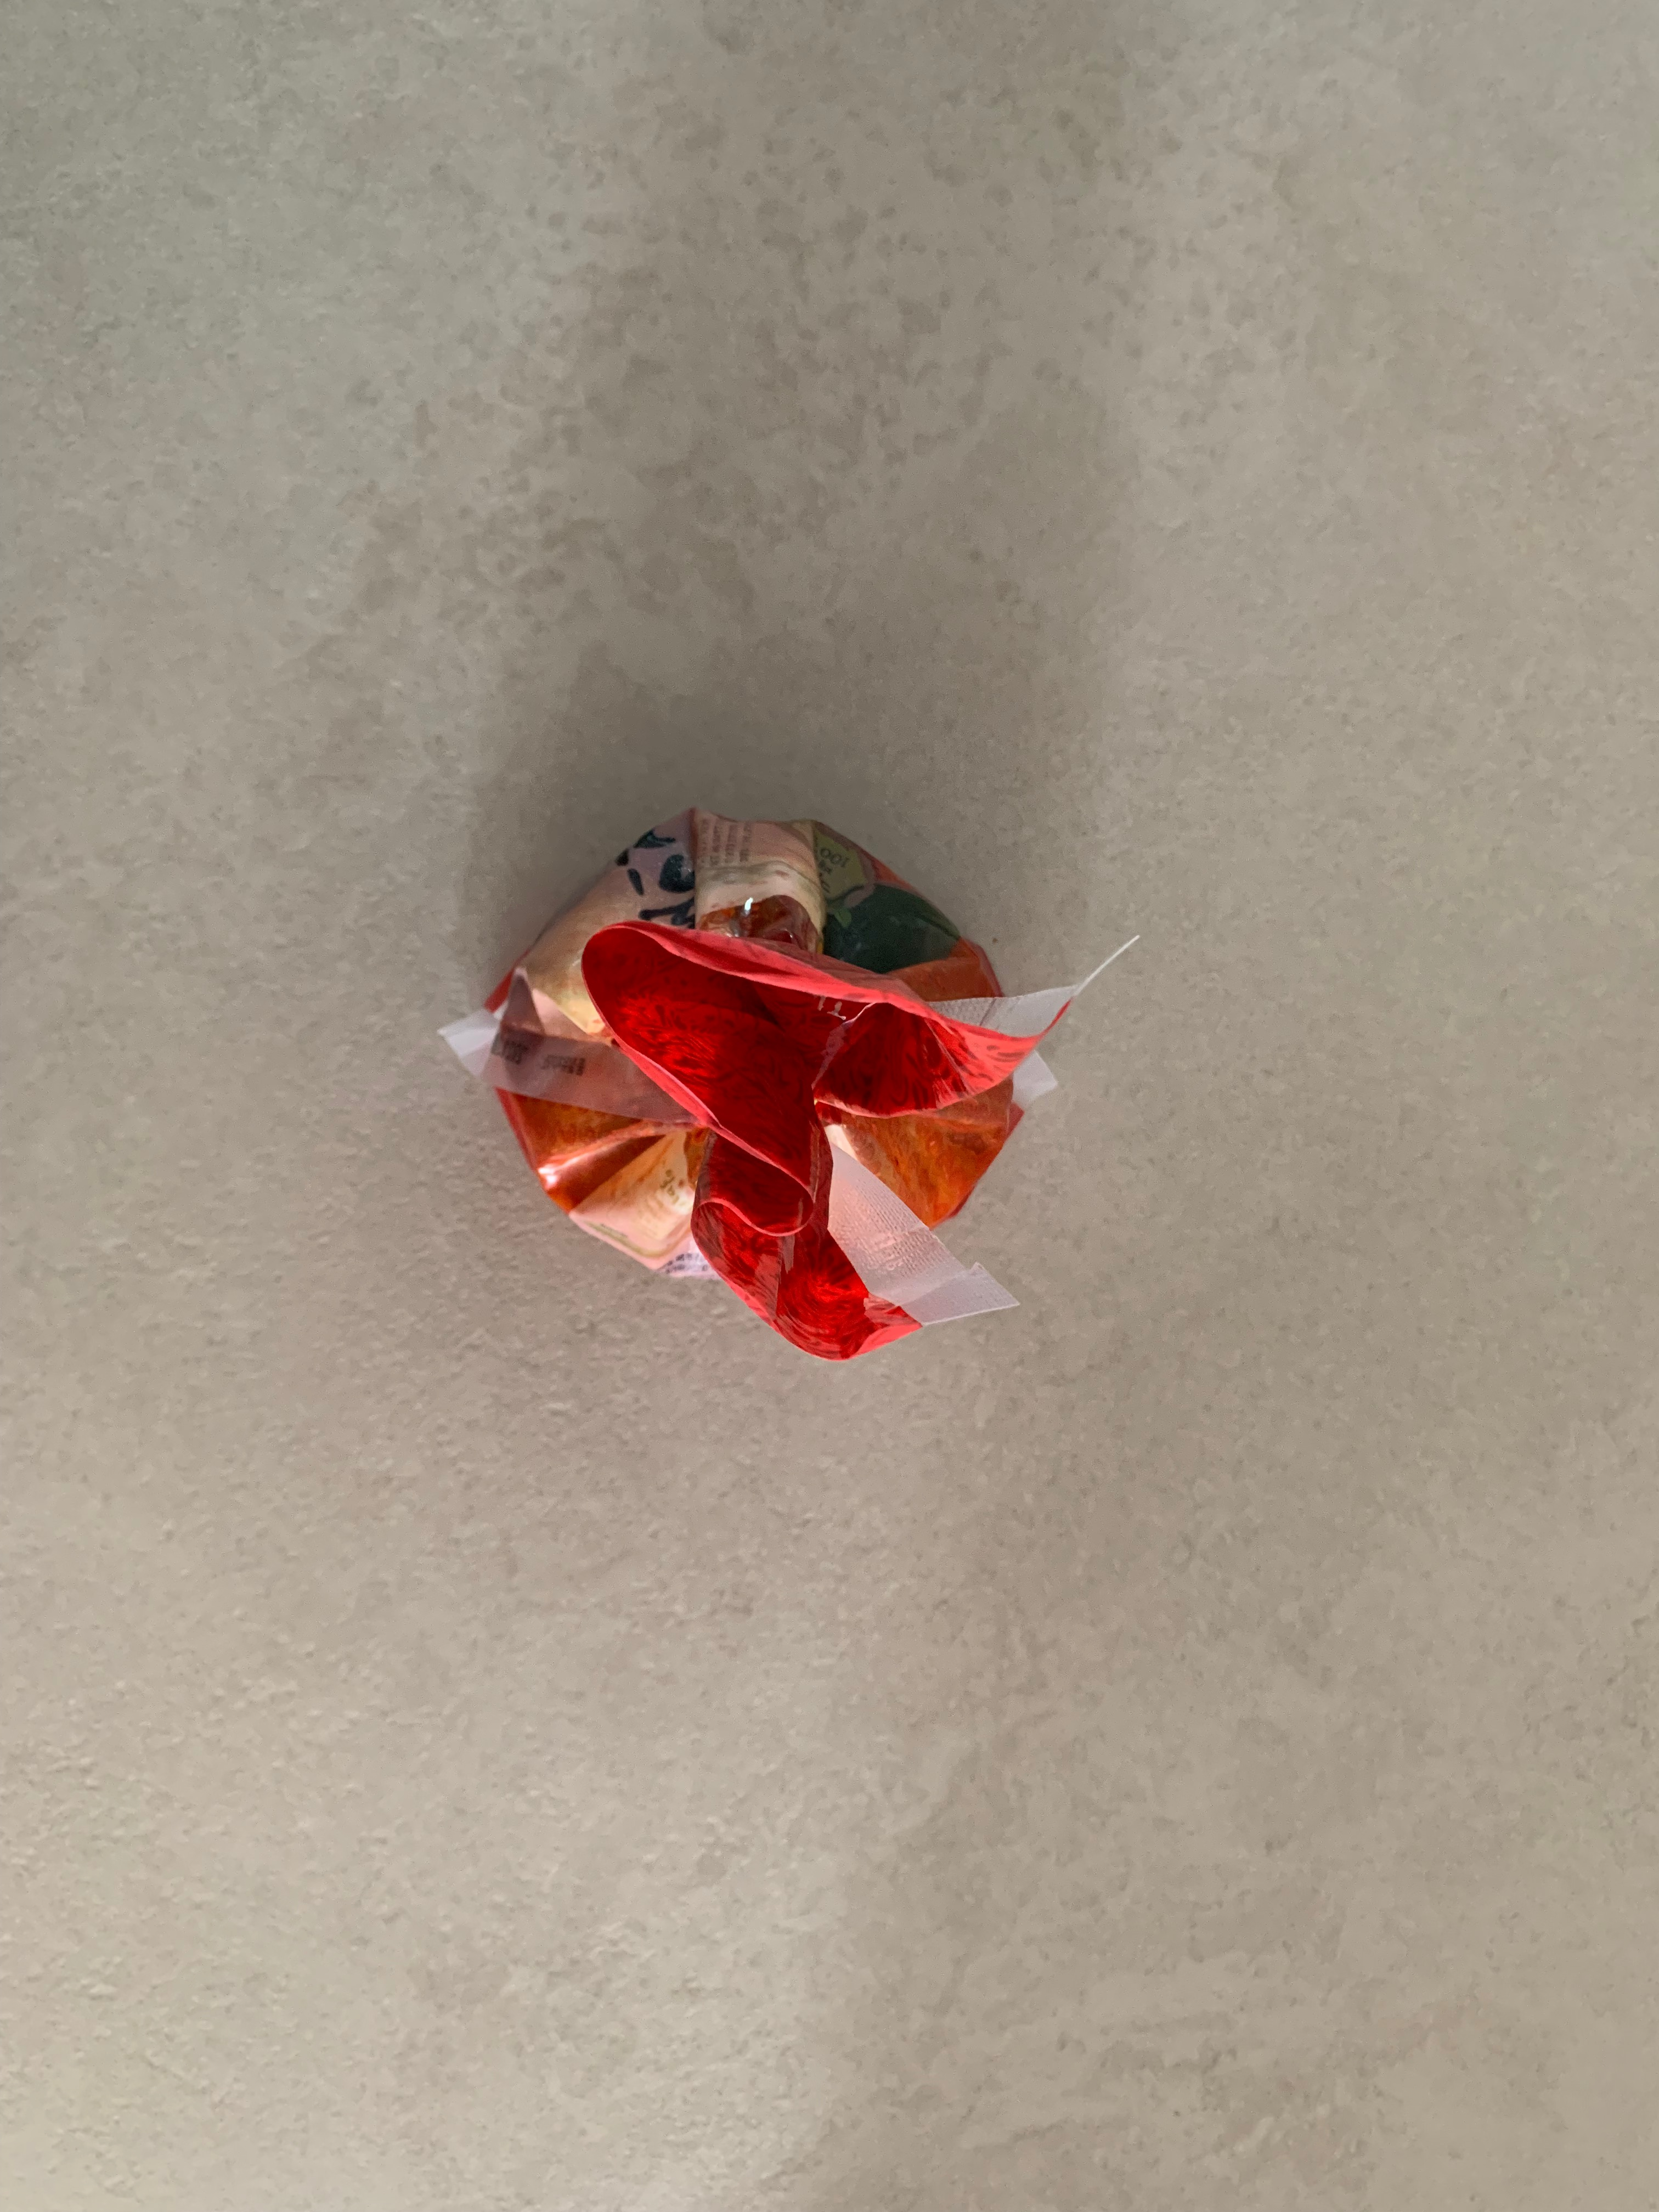kimchi: (481, 815, 1025, 1360)
